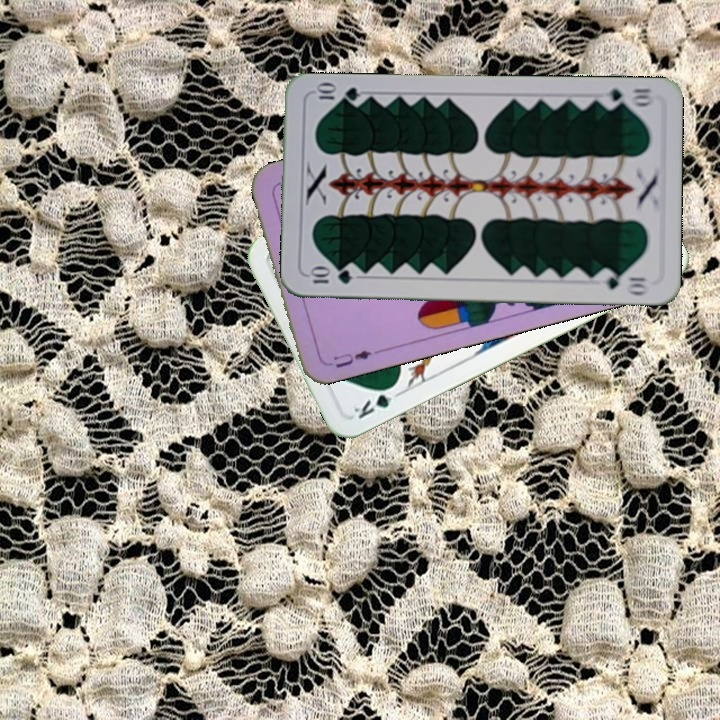EU: (329, 346, 381, 371)
G10: (597, 84, 657, 111), (305, 266, 354, 286)
GK: (349, 380, 405, 422)
